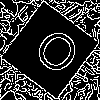O: (25, 25, 84, 86)
